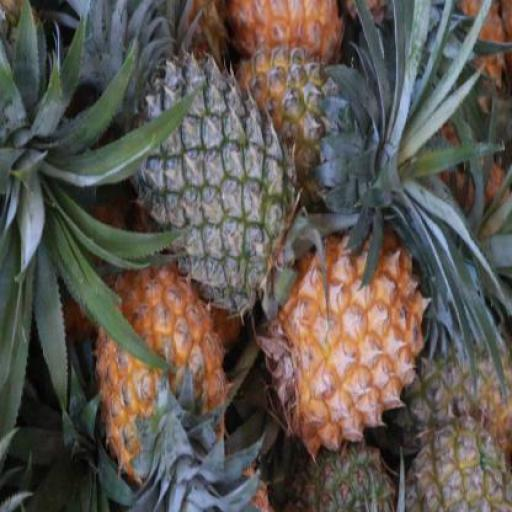Pineapple - v8 v1: (265, 228, 430, 456), (93, 256, 232, 474), (230, 0, 352, 66)
